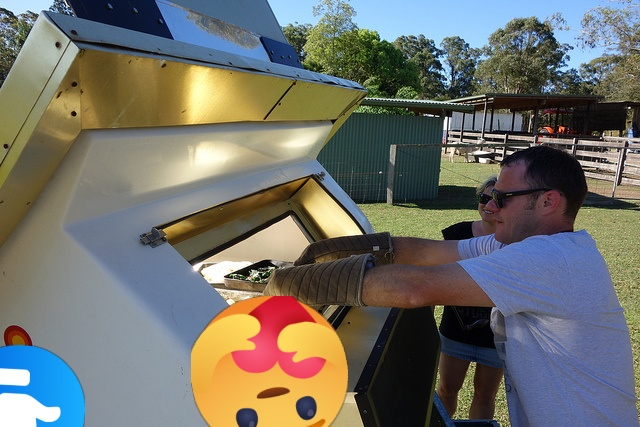care: (191, 296, 348, 427)
like: (0, 345, 85, 427)
